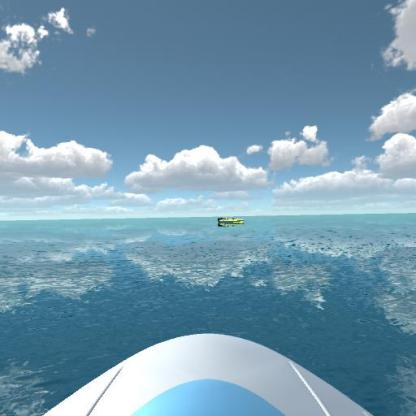usv2: (214, 210, 249, 230)
